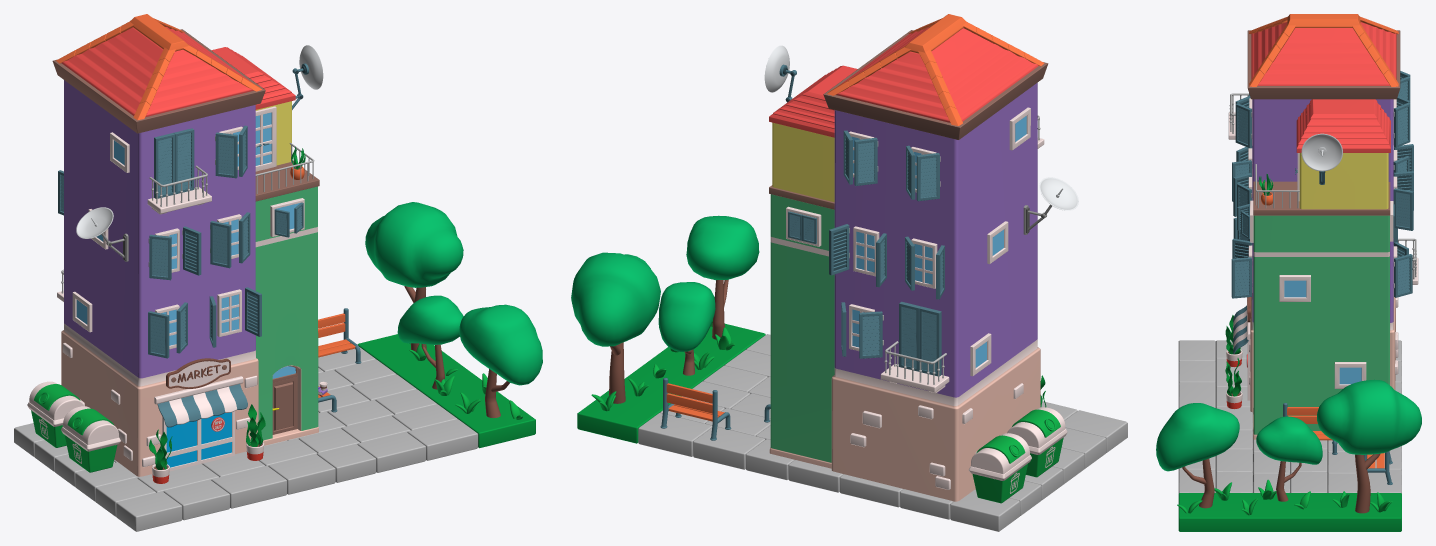
The model's file is City_Island_2.glb.
The picture shows the model from 3 angles, left to right: view 1: azimuth 30°, elevation 25°; view 2: azimuth 150°, elevation 25°; view 3: azimuth 270°, elevation 25°; orthographic projection. The views are drawn at different scales.
Visible parts, largest first — view 1: City_2_House_1, City_2_Base_1, City_2_Tree_1, City_2_Base_2, City_2_Tree_2, City_2_Tree_3, City_2_Trash_Can_2, City_2_Trash_Can_1, City_2_Market_Sign_1, City_2_Bench_1, City_2_Antenna_1, City_2_Antenna_2 (+2 smaller); view 2: City_2_House_1, City_2_Base_1, City_2_Tree_1, City_2_Base_2, City_2_Tree_2, City_2_Tree_3, City_2_Trash_Can_1, City_2_Trash_Can_2, City_2_Bench_1, City_2_Antenna_1, City_2_Antenna_2; view 3: City_2_House_1, City_2_Base_1, City_2_Base_2, City_2_Tree_1, City_2_Tree_2, City_2_Tree_3, City_2_Antenna_2, City_2_Bench_2, City_2_Plant_3, City_2_Plant_1, City_2_Bench_1.
Boxes of the visible parts, bbox=[...] form: City_2_House_1: bbox=[52, 14, 319, 476]; City_2_Base_1: bbox=[14, 347, 478, 531]; City_2_Tree_1: bbox=[365, 202, 463, 351]; City_2_Base_2: bbox=[357, 334, 535, 448]; City_2_Tree_2: bbox=[459, 304, 542, 418]; City_2_Tree_3: bbox=[397, 295, 463, 389]; City_2_Trash_Can_2: bbox=[61, 406, 120, 472]; City_2_Trash_Can_1: bbox=[27, 381, 84, 447]; City_2_Market_Sign_1: bbox=[166, 358, 230, 388]; City_2_Bench_1: bbox=[318, 308, 361, 363]; City_2_Antenna_1: bbox=[76, 207, 128, 261]; City_2_Antenna_2: bbox=[292, 45, 323, 109]; City_2_House_1: bbox=[769, 14, 1048, 501]; City_2_Base_1: bbox=[638, 334, 1127, 531]; City_2_Tree_1: bbox=[571, 252, 660, 403]; City_2_Base_2: bbox=[577, 323, 765, 443]; City_2_Tree_2: bbox=[686, 215, 759, 339]; City_2_Tree_3: bbox=[658, 282, 715, 375]; City_2_Trash_Can_1: bbox=[968, 433, 1031, 503]; City_2_Trash_Can_2: bbox=[1007, 407, 1067, 477]; City_2_Bench_1: bbox=[660, 377, 731, 440]; City_2_Antenna_1: bbox=[1023, 177, 1078, 234]; City_2_Antenna_2: bbox=[764, 45, 796, 102]; City_2_House_1: bbox=[1228, 14, 1418, 439]; City_2_Base_1: bbox=[1178, 340, 1401, 493]; City_2_Base_2: bbox=[1178, 493, 1401, 531]; City_2_Tree_1: bbox=[1317, 379, 1421, 513]; City_2_Tree_2: bbox=[1156, 403, 1239, 508]; City_2_Tree_3: bbox=[1256, 416, 1322, 501]; City_2_Antenna_2: bbox=[1301, 133, 1342, 184]; City_2_Bench_2: bbox=[1283, 403, 1337, 454]; City_2_Plant_3: bbox=[1225, 358, 1242, 409]; City_2_Plant_1: bbox=[1225, 315, 1242, 367]; City_2_Bench_1: bbox=[1364, 451, 1392, 484].
Bounding box in the file's own units: 17.41 × 16.54 × 10.39.
Materials: 26 (26 with a texture image).
